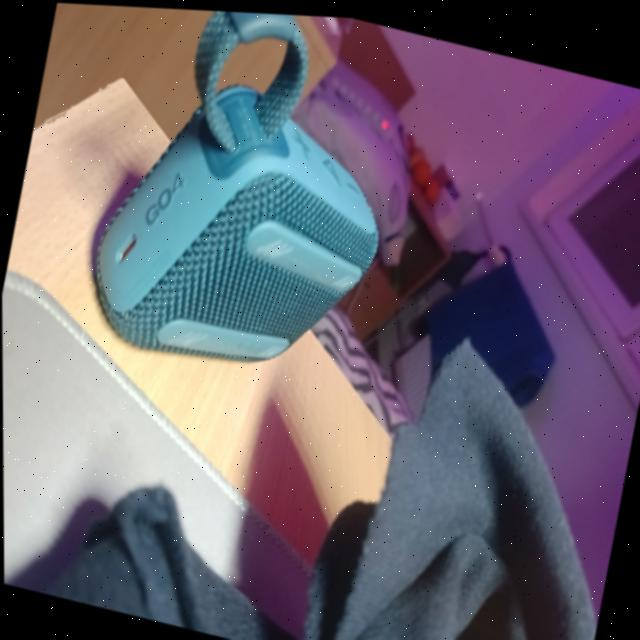column JBL: (66, 3, 483, 445)
